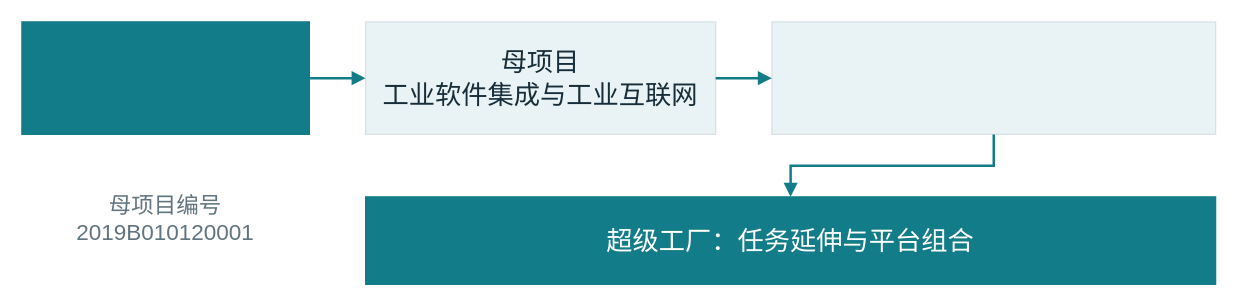
Some shapes in this 1238 by 306 pixel diagram are drawn without their labels. Each missing label, with the box of its shape:
广东省科技计划 重点领域研发计划: (21, 21, 309, 134)
研究任务 8 设备数据 · 应用模型 · 调度: (771, 21, 1216, 134)
